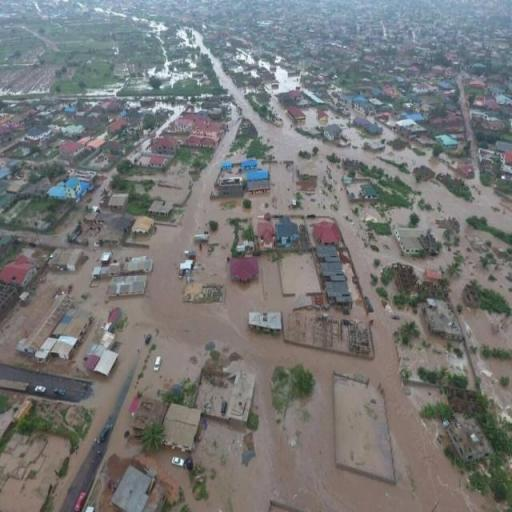flood: (0, 127, 496, 512), (343, 121, 512, 428), (244, 112, 343, 216), (192, 28, 253, 116), (0, 435, 69, 512), (275, 65, 301, 92)
house: (13, 294, 73, 355), (97, 457, 161, 512), (170, 109, 222, 147), (163, 404, 200, 449), (0, 253, 38, 289), (56, 309, 93, 340), (395, 226, 430, 258), (84, 346, 118, 376), (242, 166, 272, 195), (109, 275, 148, 297), (274, 215, 302, 245), (325, 279, 353, 309), (250, 310, 281, 337), (228, 254, 258, 280), (50, 248, 82, 272), (344, 179, 378, 200), (129, 214, 154, 240), (314, 220, 339, 246), (50, 340, 76, 362), (148, 200, 174, 218), (353, 94, 373, 116), (321, 262, 345, 280), (64, 177, 82, 198), (318, 244, 339, 262), (436, 134, 459, 150), (109, 192, 129, 210), (325, 123, 343, 142), (500, 149, 512, 175), (69, 142, 86, 159), (155, 138, 175, 152), (288, 108, 306, 120), (148, 156, 166, 168), (290, 89, 303, 101)
